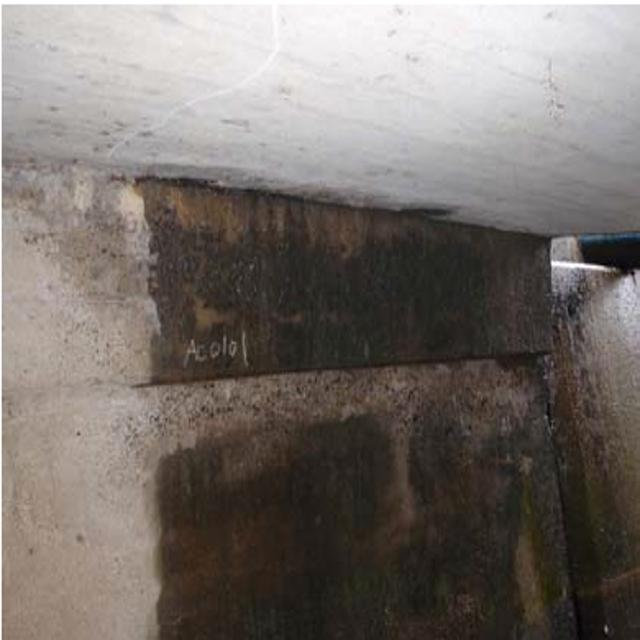leakage: (126, 164, 618, 640)
